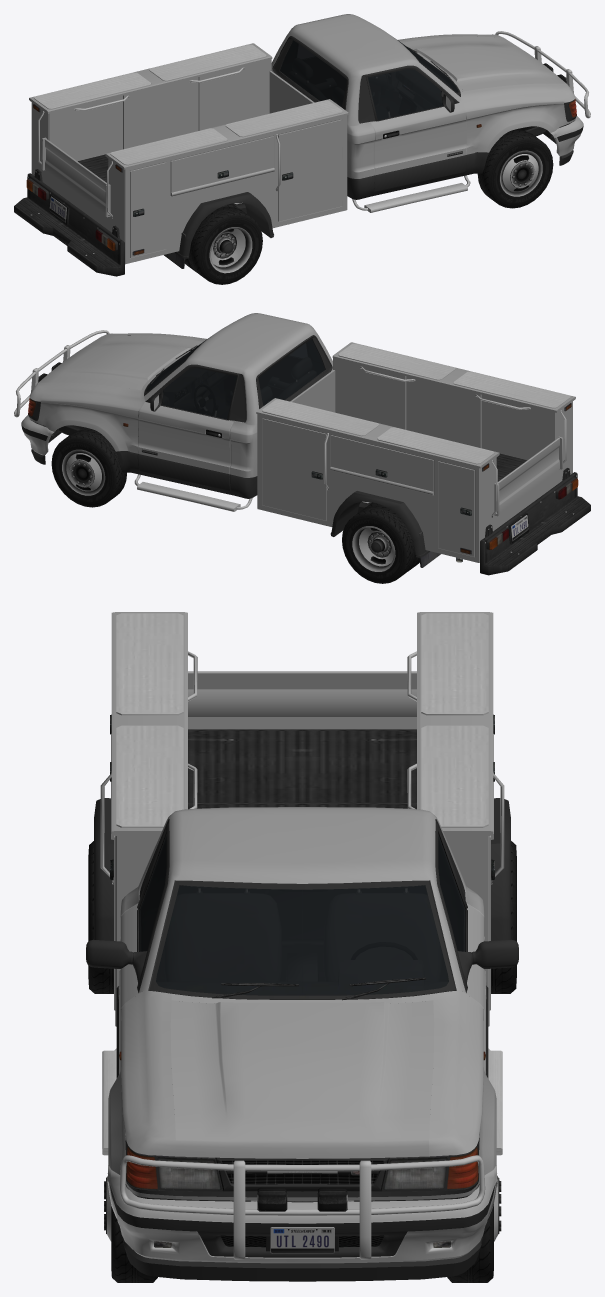
Rendered from worktruck.glb.
The picture shows the model from 3 angles, top to bottom: view 1: azimuth 30°, elevation 25°; view 2: azimuth 150°, elevation 25°; view 3: azimuth 270°, elevation 25°; orthographic projection. The views are drawn at different scales.
Parts seen in each view (by area): view 1: UTLTRUCK90_Servisebed_UTLTRUCK90_Bodymat_0, UTLTRUCK90_Body_UTLTRUCK90_Bodymat_0, UTLTRUCK90_Servisebed_Trim_UCB_BOTTOM_0, UTLTRUCK90_bottom_UCB_BOTTOM_0, UTLTRUCK90_Hood_UTLTRUCK90_Bodymat_0, UTLTRUCK90_Interior_UCB_Interiors_1_0, UTLTRUCK90_Bumper_rear_UCB_BOTTOM_0, UTLTRUCK90_WheelStock_RR_RB1c_Tire_1k_0, UTLTRUCK90_WheelStock_FR_RB1c_Tire_1k_0, UTLTRUCK90_Glass_Passenger_UCB_Lights_and_Glass_Transperent_, UTLTRUCK90_Glass_Rear_UCB_Lights_and_Glass_Transperent_0, UTLTRUCK90_Bullbar_A_UCB_BOTTOM_0 (+3 smaller); view 2: UTLTRUCK90_Servisebed_UTLTRUCK90_Bodymat_0, UTLTRUCK90_Body_UTLTRUCK90_Bodymat_0, UTLTRUCK90_Servisebed_Trim_UCB_BOTTOM_0, UTLTRUCK90_bottom_UCB_BOTTOM_0, UTLTRUCK90_Hood_UTLTRUCK90_Bodymat_0, UTLTRUCK90_Bumper_rear_UCB_BOTTOM_0, UTLTRUCK90_Interior_UCB_Interiors_1_0, UTLTRUCK90_WheelStock_RL_RB1c_Tire_1k_0, UTLTRUCK90_WheelStock_FL_RB1c_Tire_1k_0, UTLTRUCK90_Glass_Driver_UCB_Lights_and_Glass_Transperent_0, UTLTRUCK90_Glass_Rear_UCB_Lights_and_Glass_Transperent_0, UTLTRUCK90_Bullbar_A_UCB_BOTTOM_0 (+3 smaller); view 3: UTLTRUCK90_Servisebed_Trim_UCB_BOTTOM_0, UTLTRUCK90_Body_UTLTRUCK90_Bodymat_0, UTLTRUCK90_Hood_UTLTRUCK90_Bodymat_0, UTLTRUCK90_Interior_UCB_Interiors_1_0, UTLTRUCK90_Windshield_UCB_Lights_and_Glass_Transperent_0, UTLTRUCK90_Servisebed_UTLTRUCK90_Bodymat_0, UTLTRUCK90_bottom_UCB_BOTTOM_0, UTLTRUCK90_Bumper_front_inner_UCB_BOTTOM_0, UTLTRUCK90_Bullbar_A_UCB_BOTTOM_0, UTLTRUCK90_Bumper_Front_UTLTRUCK90_Bodymat_0, UTLTRUCK90_Headlights_Glass_UCB_Lights_and_Glass_Transperent, UTLTRUCK90_Headlights_UCB_Lights_and_Glass_0 (+8 smaller).
Boxes of the visible parts, box(x1,y1,x2,y2) form: UTLTRUCK90_Servisebed_UTLTRUCK90_Bodymat_0: box(29, 43, 348, 264); UTLTRUCK90_Body_UTLTRUCK90_Bodymat_0: box(271, 14, 575, 178); UTLTRUCK90_Servisebed_Trim_UCB_BOTTOM_0: box(29, 44, 342, 258); UTLTRUCK90_bottom_UCB_BOTTOM_0: box(164, 36, 576, 268); UTLTRUCK90_Hood_UTLTRUCK90_Bodymat_0: box(402, 36, 566, 91); UTLTRUCK90_Interior_UCB_Interiors_1_0: box(280, 36, 456, 123); UTLTRUCK90_Bumper_rear_UCB_BOTTOM_0: box(14, 169, 124, 276); UTLTRUCK90_WheelStock_RR_RB1c_Tire_1k_0: box(185, 203, 262, 284); UTLTRUCK90_WheelStock_FR_RB1c_Tire_1k_0: box(477, 130, 553, 208); UTLTRUCK90_Glass_Passenger_UCB_Lights_and_Glass_Transperent_: box(368, 69, 442, 120); UTLTRUCK90_Glass_Rear_UCB_Lights_and_Glass_Transperent_0: box(280, 40, 346, 106); UTLTRUCK90_Bullbar_A_UCB_BOTTOM_0: box(495, 31, 590, 118); UTLTRUCK90_Servisebed_UTLTRUCK90_Bodymat_0: box(256, 342, 575, 562); UTLTRUCK90_Body_UTLTRUCK90_Bodymat_0: box(29, 313, 332, 477); UTLTRUCK90_Servisebed_Trim_UCB_BOTTOM_0: box(262, 343, 575, 557); UTLTRUCK90_bottom_UCB_BOTTOM_0: box(28, 335, 462, 567); UTLTRUCK90_Hood_UTLTRUCK90_Bodymat_0: box(38, 335, 202, 390); UTLTRUCK90_Bumper_rear_UCB_BOTTOM_0: box(480, 468, 590, 575); UTLTRUCK90_Interior_UCB_Interiors_1_0: box(148, 340, 323, 418); UTLTRUCK90_WheelStock_RL_RB1c_Tire_1k_0: box(342, 502, 419, 583); UTLTRUCK90_WheelStock_FL_RB1c_Tire_1k_0: box(51, 429, 126, 507); UTLTRUCK90_Glass_Driver_UCB_Lights_and_Glass_Transperent_0: box(162, 368, 236, 419); UTLTRUCK90_Glass_Rear_UCB_Lights_and_Glass_Transperent_0: box(258, 339, 325, 405); UTLTRUCK90_Bullbar_A_UCB_BOTTOM_0: box(14, 330, 109, 417); UTLTRUCK90_Servisebed_Trim_UCB_BOTTOM_0: box(94, 613, 510, 940); UTLTRUCK90_Body_UTLTRUCK90_Bodymat_0: box(108, 807, 496, 1200); UTLTRUCK90_Hood_UTLTRUCK90_Bodymat_0: box(170, 1000, 434, 1158); UTLTRUCK90_Interior_UCB_Interiors_1_0: box(141, 842, 463, 995); UTLTRUCK90_Windshield_UCB_Lights_and_Glass_Transperent_0: box(156, 885, 448, 995); UTLTRUCK90_Servisebed_UTLTRUCK90_Bodymat_0: box(111, 612, 493, 1026); UTLTRUCK90_bottom_UCB_BOTTOM_0: box(86, 819, 518, 1202); UTLTRUCK90_Bumper_front_inner_UCB_BOTTOM_0: box(107, 1181, 497, 1281); UTLTRUCK90_Bullbar_A_UCB_BOTTOM_0: box(119, 1155, 485, 1259); UTLTRUCK90_Bumper_Front_UTLTRUCK90_Bodymat_0: box(107, 1165, 497, 1223); UTLTRUCK90_Headlights_Glass_UCB_Lights_and_Glass_Transperent: box(126, 1147, 478, 1190); UTLTRUCK90_Headlights_UCB_Lights_and_Glass_0: box(158, 1158, 446, 1189).
Bounding box in the file's own units: 5.37 × 1.66 × 2.
8 materials, 7 textured.
